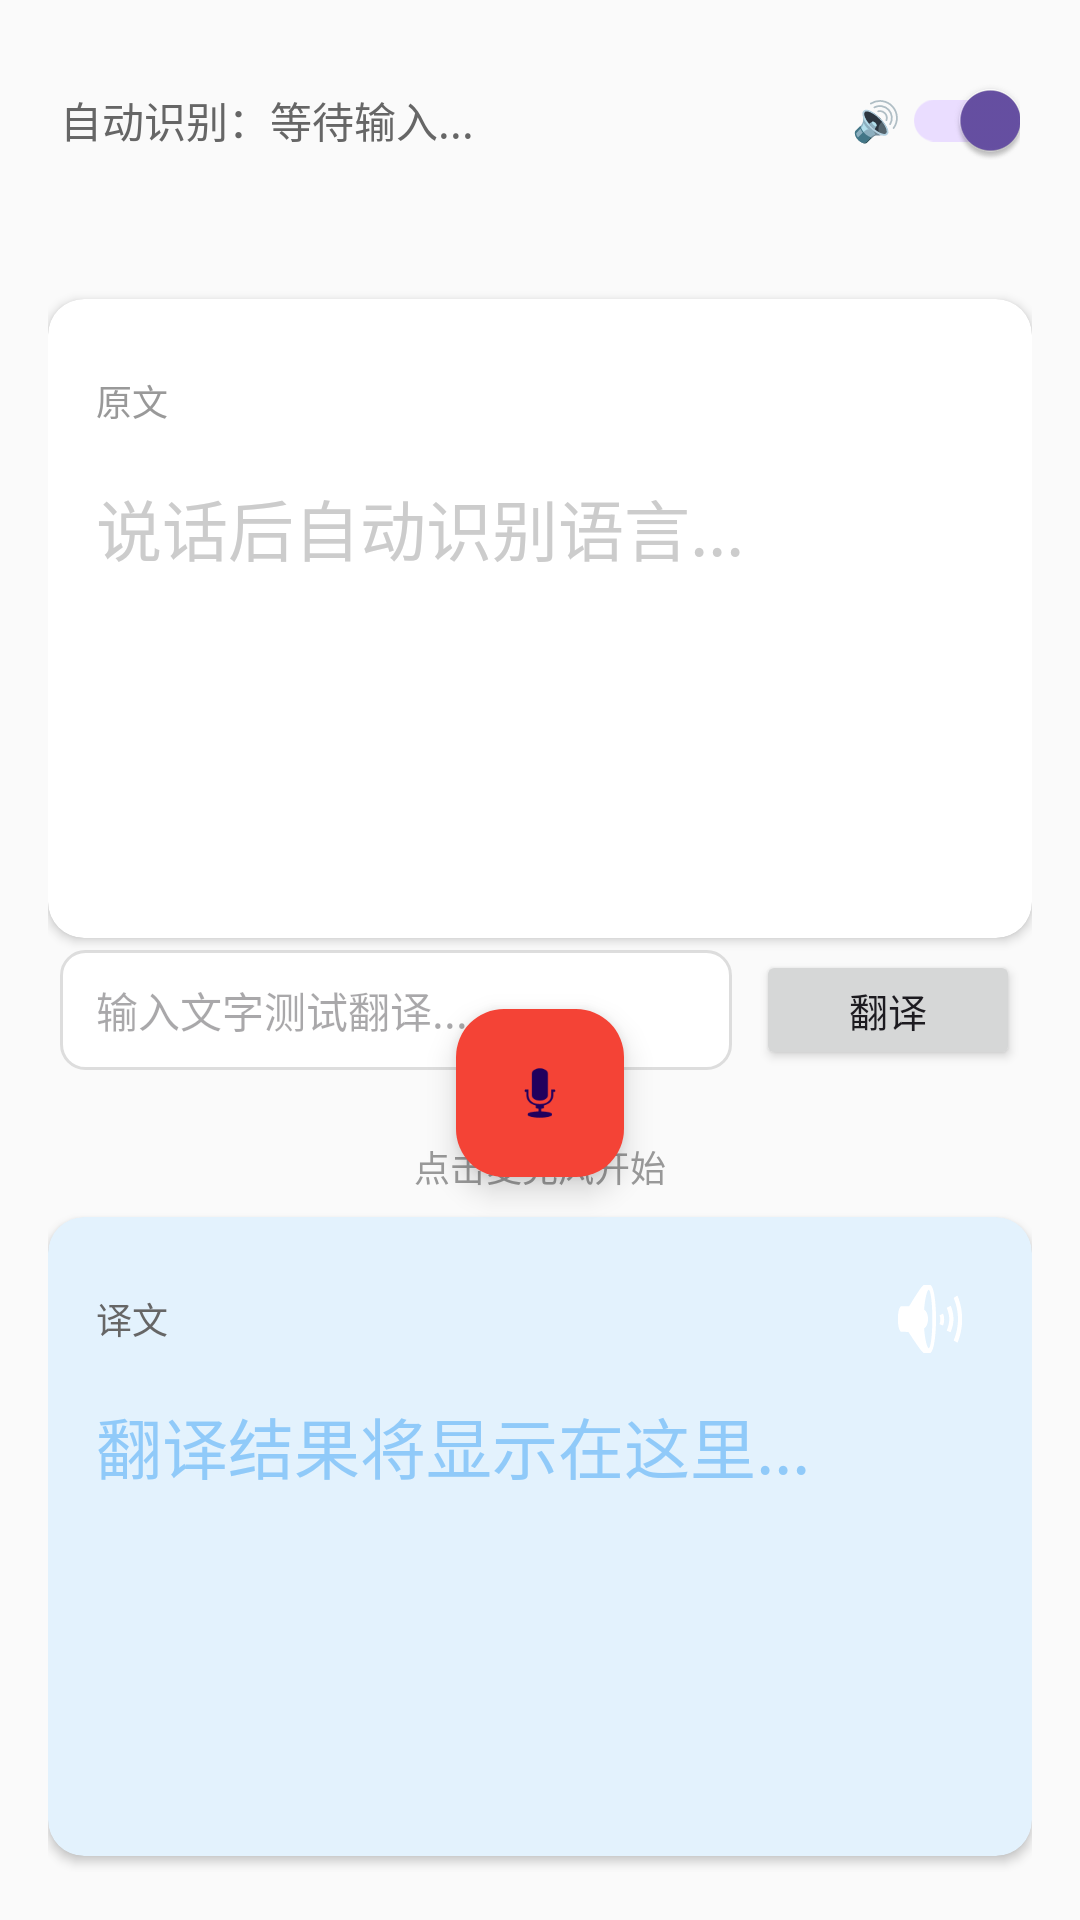

Named icons in this screenshot (1080×1920) and their centers, point (x, y):
录音: point (540, 1093)
